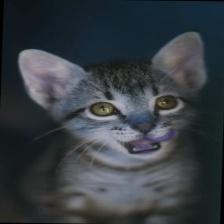kedo: (19, 32, 207, 160)
